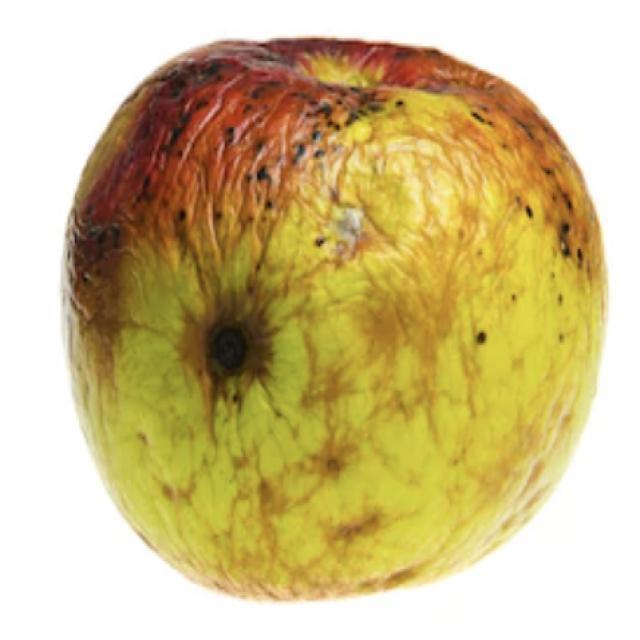Rotten: (86, 44, 592, 594)
